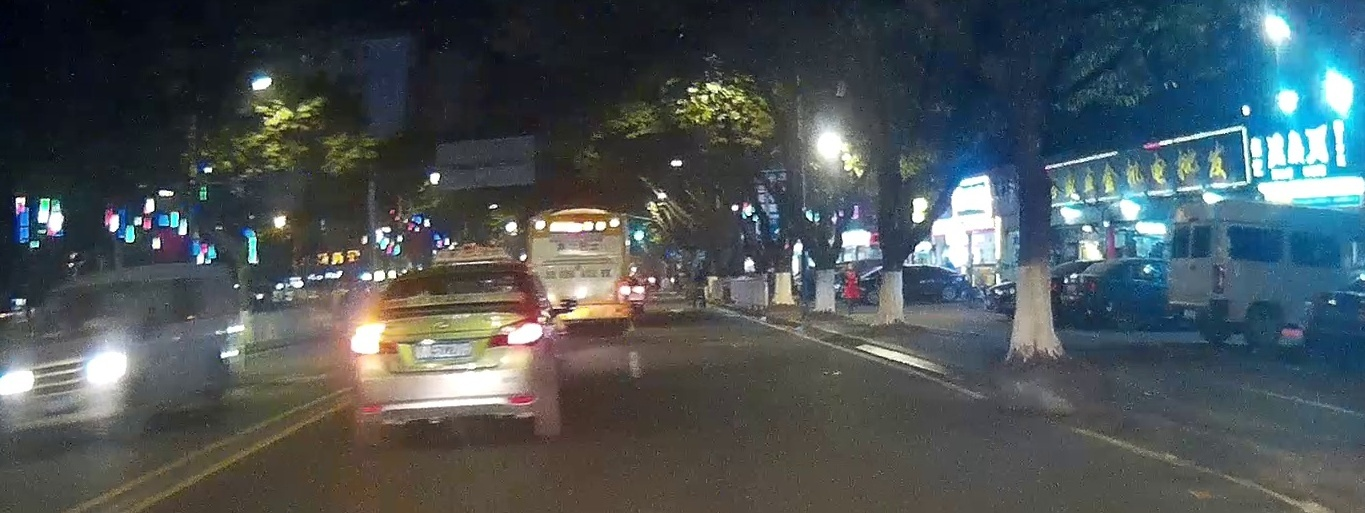L_light: (349, 321, 399, 355)
R_light: (484, 315, 545, 348)
T_light: (442, 274, 464, 278)
night-left: (349, 258, 546, 449)
